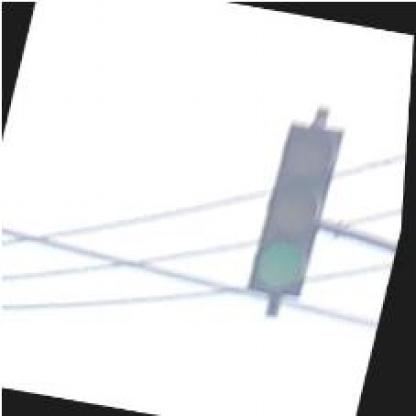green: (249, 122, 346, 300)
